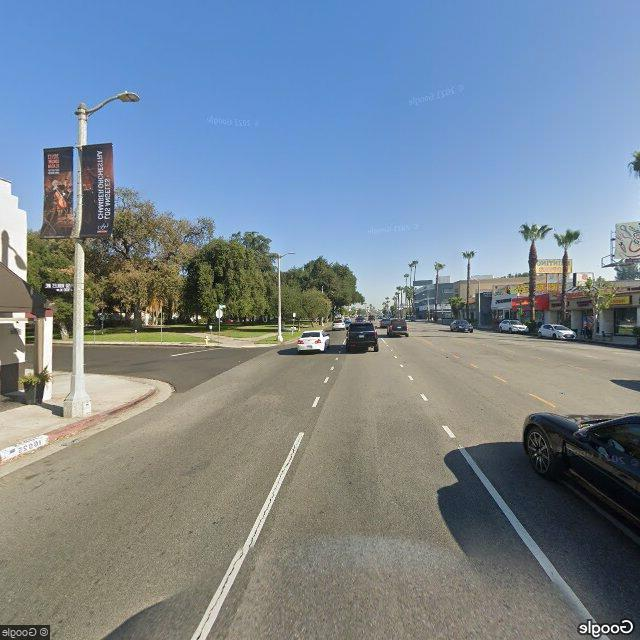pothole: (200, 436, 300, 639)
